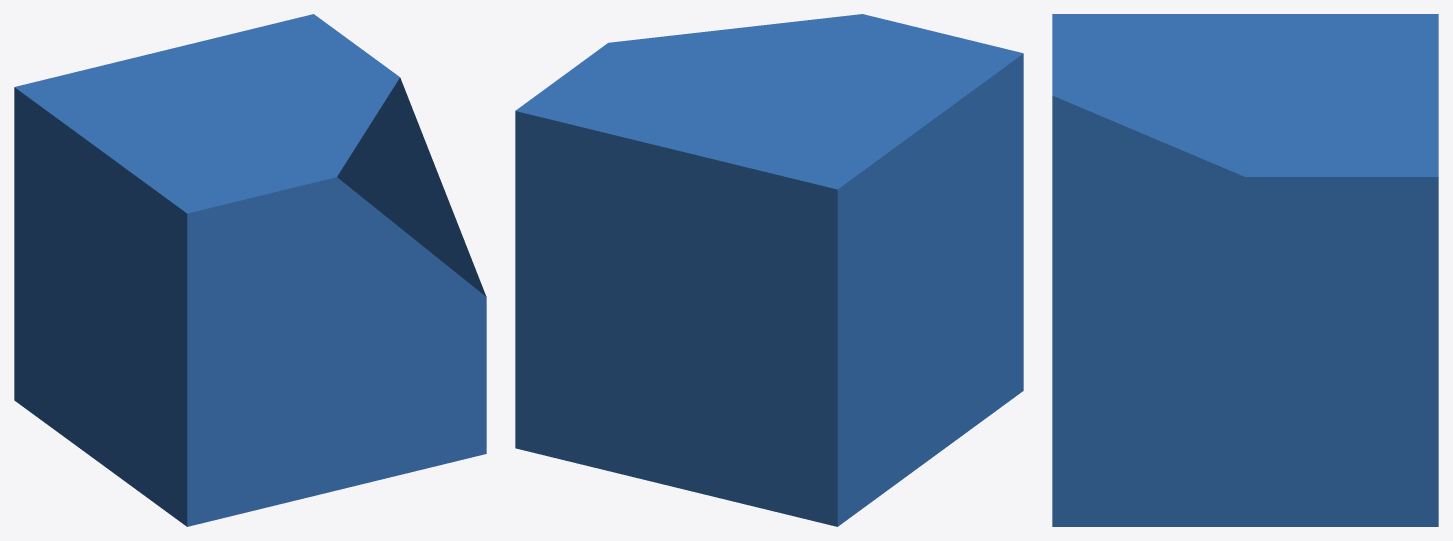
File: r6c6_body_blue.gltf
3 renders of one model, left to right at view 1: azimuth 30°, elevation 25°; view 2: azimuth 150°, elevation 25°; view 3: azimuth 270°, elevation 25°, orthographic. The views are drawn at different scales.
Parts seen in each view (by area): view 1: r6c6_body_blue; view 2: r6c6_body_blue; view 3: r6c6_body_blue.
Boxes of the visible parts, bbox=[...] form: r6c6_body_blue: bbox=[14, 14, 486, 526]; r6c6_body_blue: bbox=[515, 14, 1023, 526]; r6c6_body_blue: bbox=[1052, 14, 1438, 526].
Bounding box in the file's own units: 2 × 2 × 2.
1 material, 1 textured.
